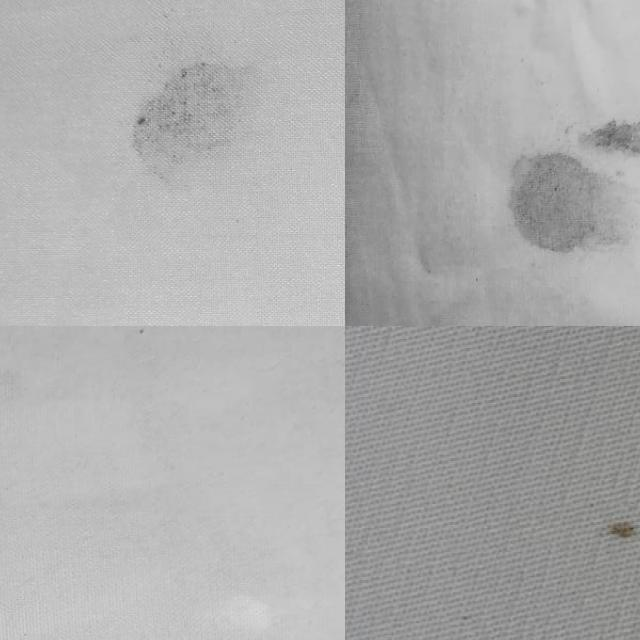Hole: (475, 84, 640, 292), (118, 43, 286, 211), (581, 491, 640, 565)
